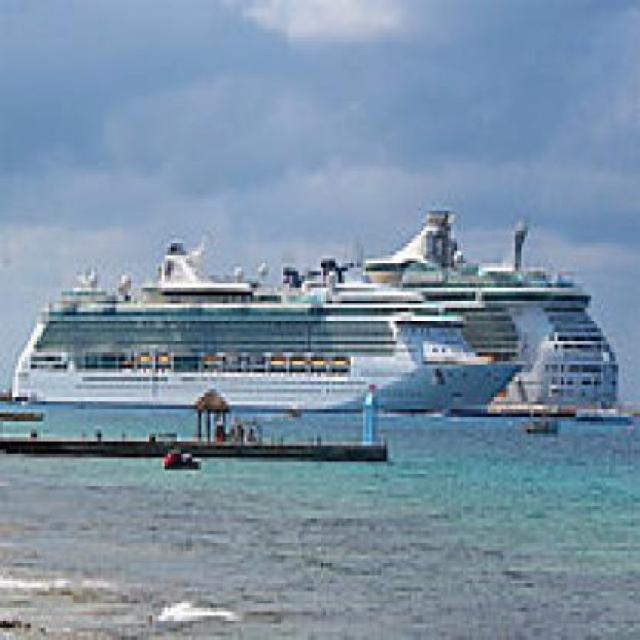cruise: (7, 244, 532, 435)
